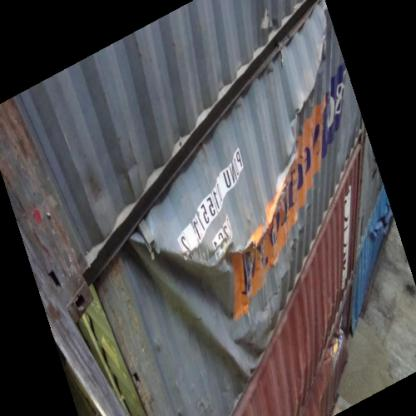Damage: (253, 20, 358, 230), (135, 273, 269, 382), (112, 224, 242, 283)
